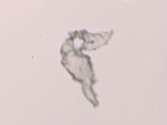microplastic: (60, 29, 115, 109)
